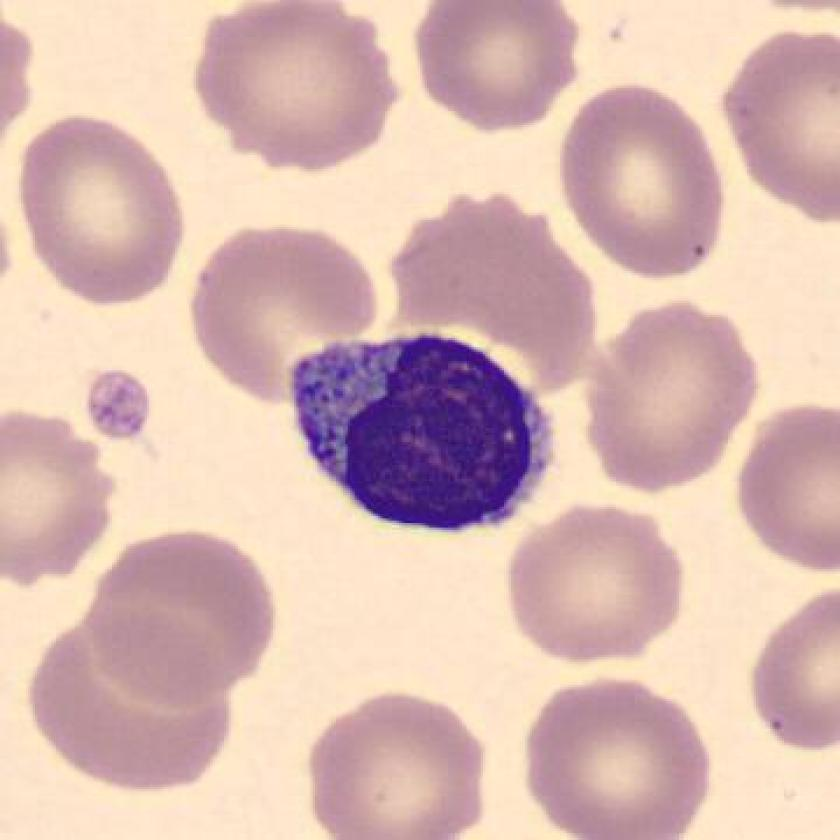lymphocyte: (260, 307, 573, 557)
